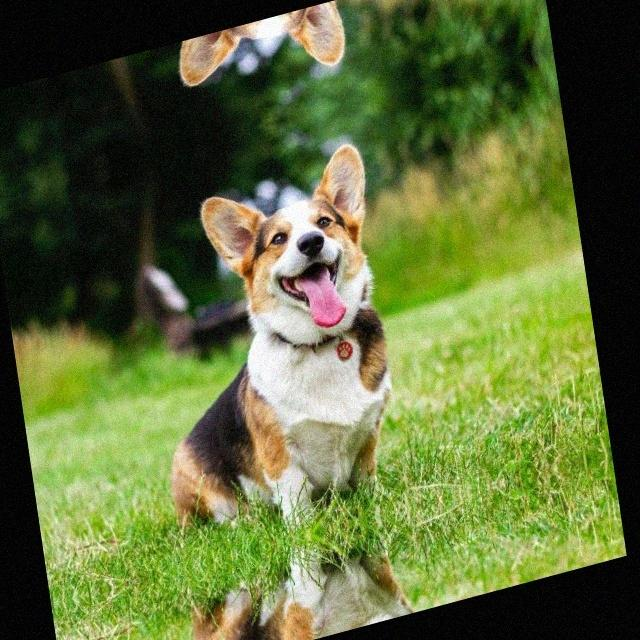dog: (123, 127, 423, 554), (105, 0, 362, 133), (180, 519, 441, 640)
